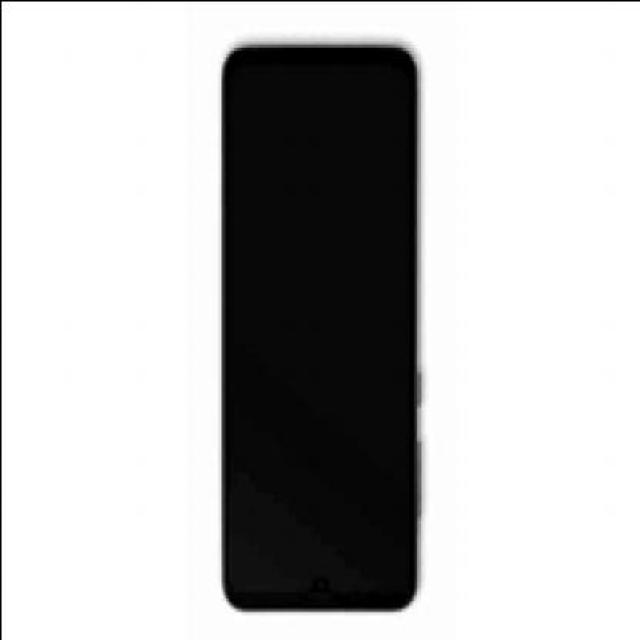phone: (218, 43, 418, 611)
